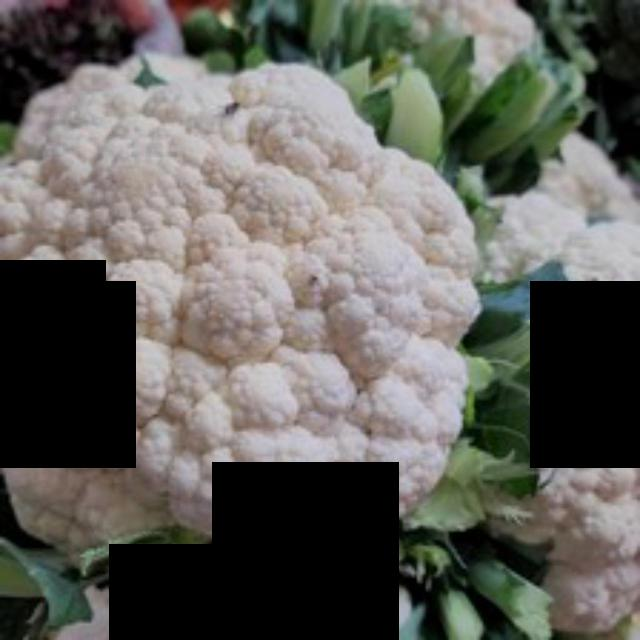cauliflower: (5, 44, 489, 593)
